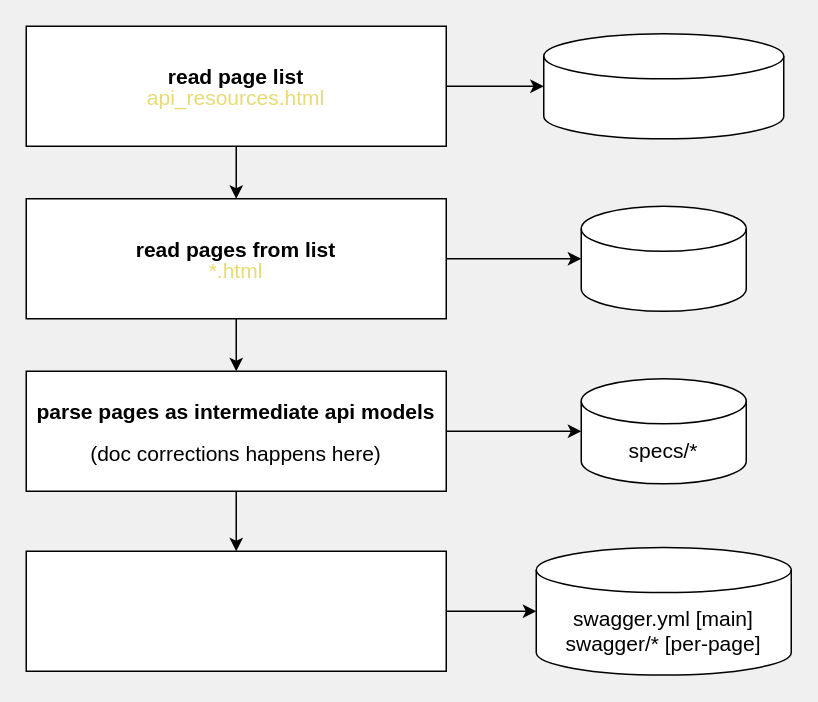
This 818x702 diagram has some shape labels left out. Each missing label, with the centre of its shape:
"cache/*" belongs at (663,258).
"cache/api_resources" belongs at (663,85).
"convert intermediate models to swagger (further corrections + swagger alignment)" belongs at (235,610).
